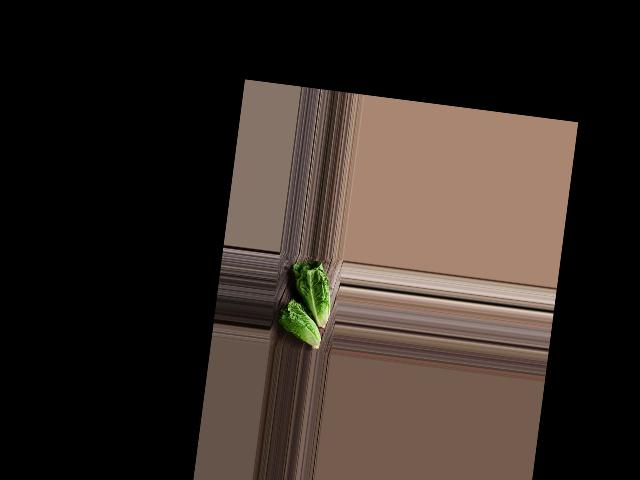lettuce: (271, 296, 327, 352)
